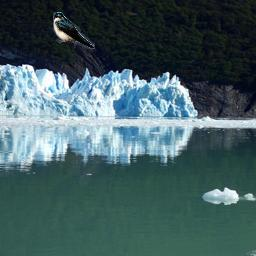Swallow: (53, 12, 95, 49)
